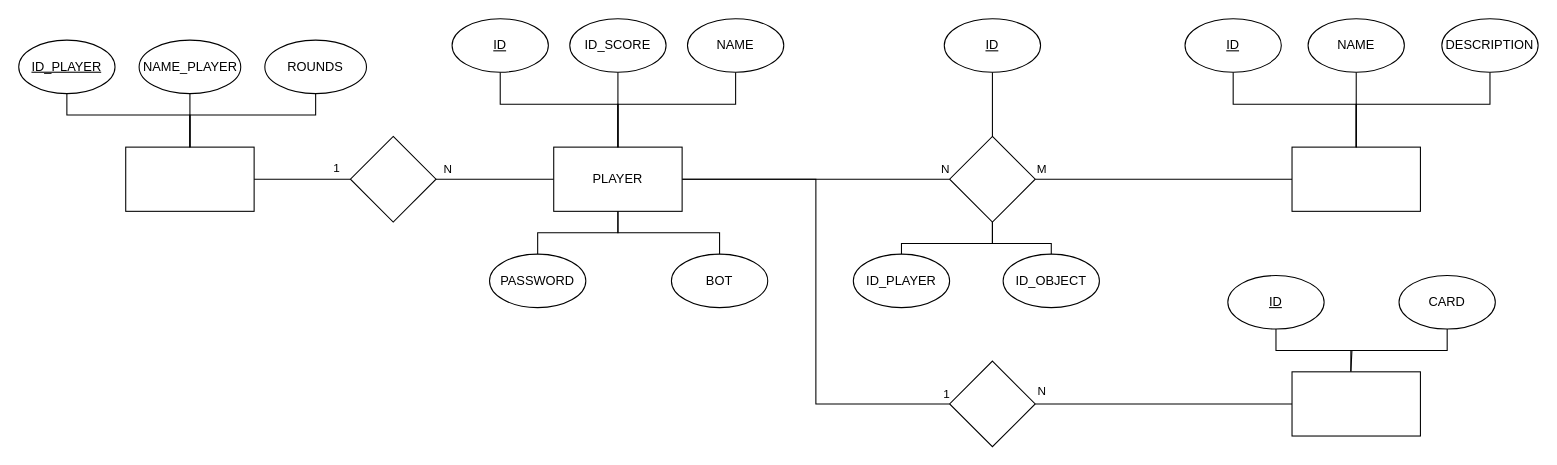
This 1557x465 diagram has some shape labels left out. The box of each missing label's shape, as (x1, y1, x2, y2) in pixels:
CARDS: (1291, 371, 1420, 436)
DRAW: (949, 360, 1035, 447)
GET: (349, 135, 436, 222)
INVENTORY: (949, 135, 1035, 222)
OBJECT: (1291, 146, 1420, 211)
SCORE: (125, 146, 254, 211)
